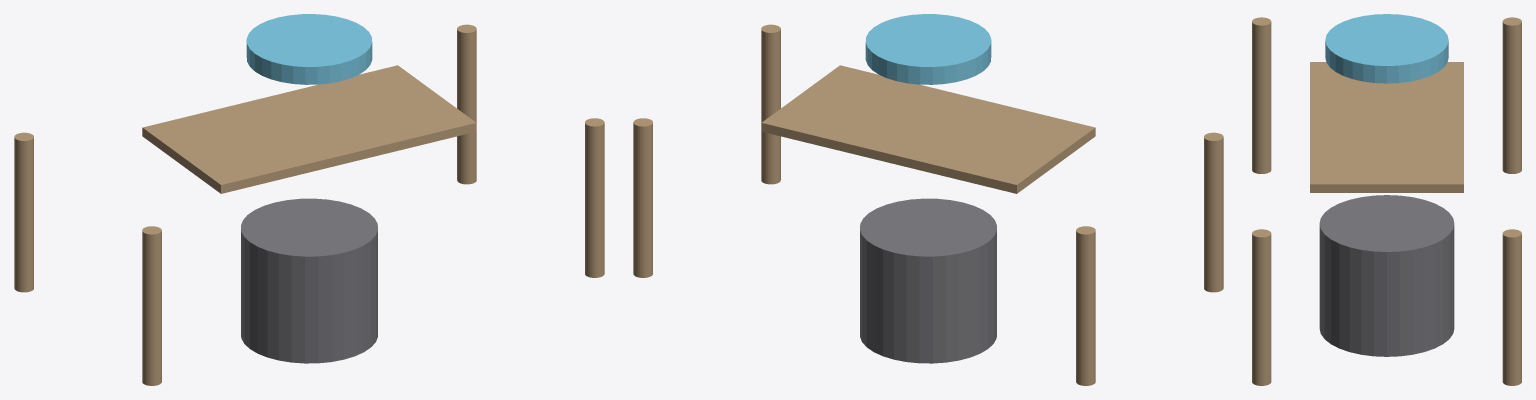
The model's file is boil_shake.glb.
3 views of the same model, side by side, from view 1: azimuth 30°, elevation 25°; view 2: azimuth 150°, elevation 25°; view 3: azimuth 270°, elevation 25° (orthographic).
Visible parts, largest first — view 1: bench_top, boil_shake, boil_shake_liquid, bench_leg_-1.3_0.65, bench_leg_1.3_-0.65, bench_leg_-1.3_-0.65, bench_leg_1.3_0.65; view 2: bench_top, boil_shake, boil_shake_liquid, bench_leg_-1.3_-0.65, bench_leg_1.3_0.65, bench_leg_-1.3_0.65, bench_leg_1.3_-0.65; view 3: boil_shake, bench_top, boil_shake_liquid, bench_leg_1.3_0.65, bench_leg_1.3_-0.65, bench_leg_-1.3_0.65, bench_leg_-1.3_-0.65.
Boxes of the visible parts, x1,y1,x2,y2 form: bench_top: (142, 65, 476, 193); boil_shake: (241, 198, 377, 363); boil_shake_liquid: (246, 14, 372, 84); bench_leg_-1.3_0.65: (14, 132, 33, 292); bench_leg_1.3_-0.65: (585, 118, 604, 277); bench_leg_-1.3_-0.65: (142, 226, 161, 385); bench_leg_1.3_0.65: (457, 24, 476, 184); bench_top: (761, 65, 1095, 193); boil_shake: (860, 198, 996, 363); boil_shake_liquid: (865, 14, 991, 84); bench_leg_-1.3_-0.65: (1204, 132, 1223, 292); bench_leg_1.3_0.65: (633, 118, 652, 277); bench_leg_-1.3_0.65: (1076, 226, 1095, 385); bench_leg_1.3_-0.65: (761, 24, 780, 184); boil_shake: (1319, 195, 1454, 356); bench_top: (1310, 62, 1463, 192); boil_shake_liquid: (1325, 14, 1448, 83); bench_leg_1.3_0.65: (1502, 229, 1521, 385); bench_leg_1.3_-0.65: (1252, 229, 1271, 385); bench_leg_-1.3_0.65: (1502, 17, 1521, 173); bench_leg_-1.3_-0.65: (1252, 17, 1271, 173).
Bounding box in the file's own units: 2.7 × 1.65 × 1.4.
